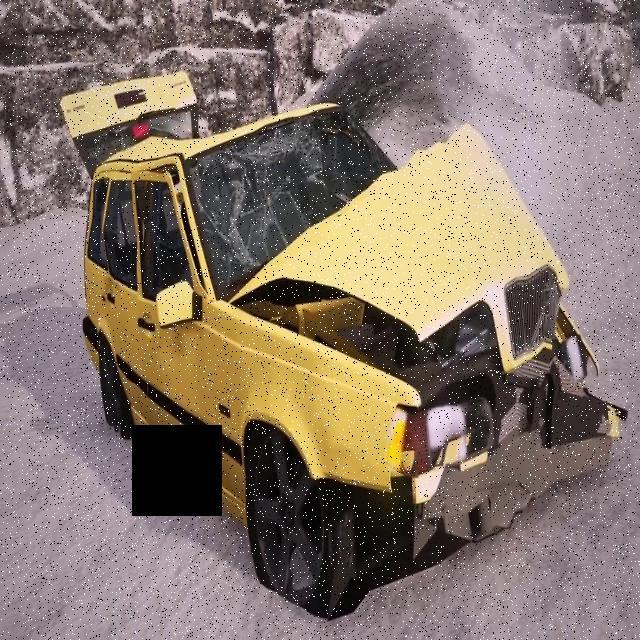severe: (59, 64, 628, 625)
